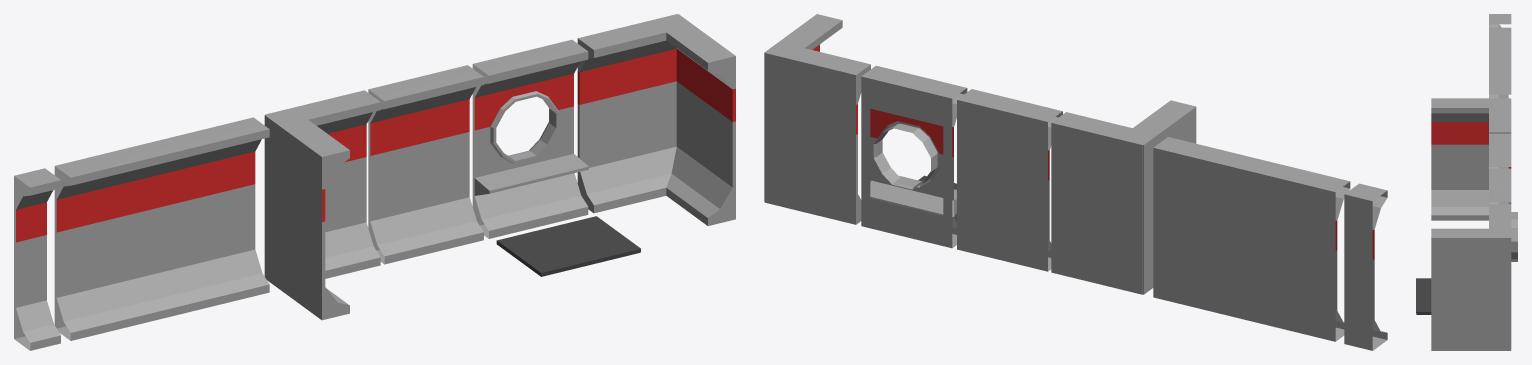
Rendered from Maya_Models_Ship.fbx.
3 renders of one model, left to right at view 1: azimuth 30°, elevation 25°; view 2: azimuth 150°, elevation 25°; view 3: azimuth 270°, elevation 25°, orthographic. The views are drawn at different scales.
Parts seen in each view (by area): view 1: Longwall, corner_L, CornerR_R, Wall, Window_Wall, Pillar, Floor; view 2: Longwall, CornerR_R, corner_L, Wall, Window_Wall, Pillar; view 3: corner_L, CornerR_R, Longwall, Window_Wall, Wall, Floor, Pillar.
Boxes of the visible parts, bbox=[...] form: Longwall: bbox=[54, 117, 269, 340]; corner_L: bbox=[577, 14, 735, 225]; CornerR_R: bbox=[264, 90, 380, 320]; Wall: bbox=[368, 65, 483, 264]; Window_Wall: bbox=[472, 39, 588, 238]; Pillar: bbox=[14, 168, 60, 350]; Floor: bbox=[496, 216, 640, 276]; Longwall: bbox=[1153, 137, 1350, 341]; CornerR_R: bbox=[1051, 100, 1196, 294]; corner_L: bbox=[764, 14, 870, 224]; Wall: bbox=[957, 89, 1062, 271]; Window_Wall: bbox=[861, 65, 967, 248]; Pillar: bbox=[1344, 183, 1387, 350]; corner_L: bbox=[1431, 204, 1511, 350]; CornerR_R: bbox=[1431, 98, 1511, 220]; Longwall: bbox=[1489, 27, 1511, 98]; Window_Wall: bbox=[1489, 168, 1517, 261]; Wall: bbox=[1489, 133, 1511, 168]; Floor: bbox=[1416, 278, 1431, 314]; Pillar: bbox=[1489, 14, 1511, 27].
Bounding box in the file's own units: 1002 × 236 × 193.
